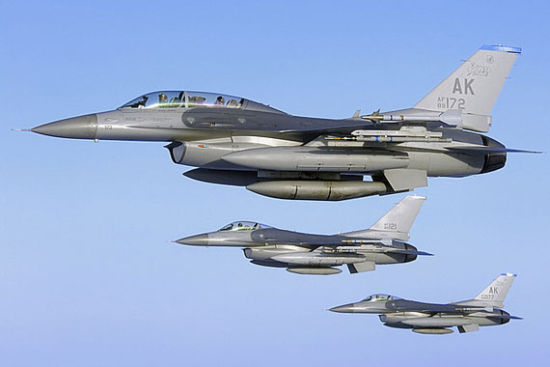airplane: (11, 40, 539, 204), (165, 194, 433, 276), (321, 272, 522, 337)
